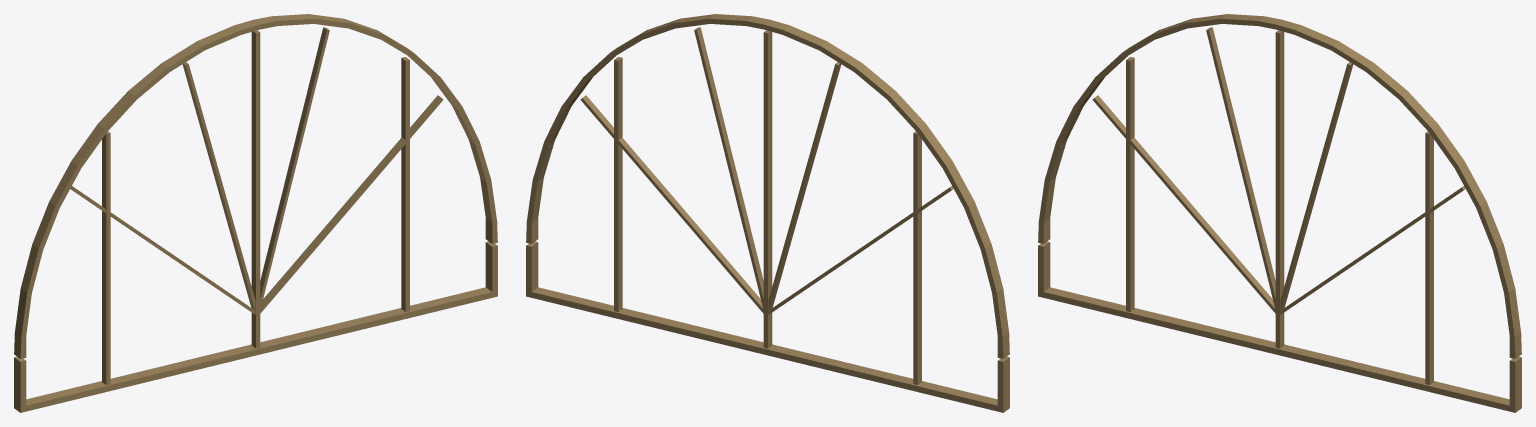
Rendered from marine-copper-grille.lod1.glb.
3 renders of one model, left to right at view 1: azimuth 30°, elevation 25°; view 2: azimuth 150°, elevation 25°; view 3: azimuth 330°, elevation 25°, orthographic.
Parts seen in each view (by area): view 1: marine-copper-grille; view 2: marine-copper-grille; view 3: marine-copper-grille.
Boxes of the visible parts, x1,y1,x2,y2 form: marine-copper-grille: (14, 14, 497, 412); marine-copper-grille: (526, 14, 1009, 412); marine-copper-grille: (1038, 14, 1521, 412).
Size of the model in its own units: 5.1 by 3.37 by 0.12.
